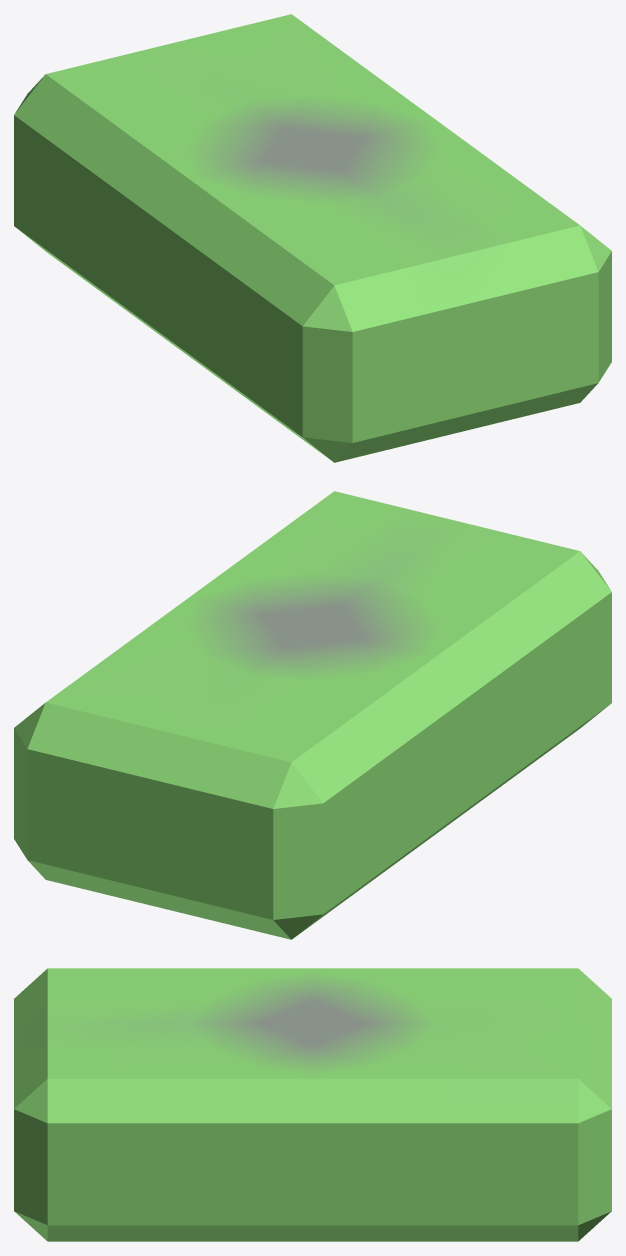
Rendered from Money.fbx.
3 renders of one model, top to bottom at view 1: azimuth 30°, elevation 25°; view 2: azimuth 150°, elevation 25°; view 3: azimuth 270°, elevation 25°, orthographic. The views are drawn at different scales.
Parts seen in each view (by area): view 1: Money; view 2: Money; view 3: Money.
Boxes of the visible parts, x1,y1,x2,y2 form: Money: (14,14,611,462); Money: (14,491,611,939); Money: (14,968,611,1241).
Bounding box in the file's own units: 29.24 × 16.03 × 53.28.
